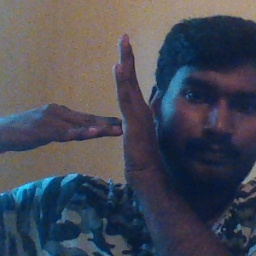Z: (38, 31, 166, 201)
